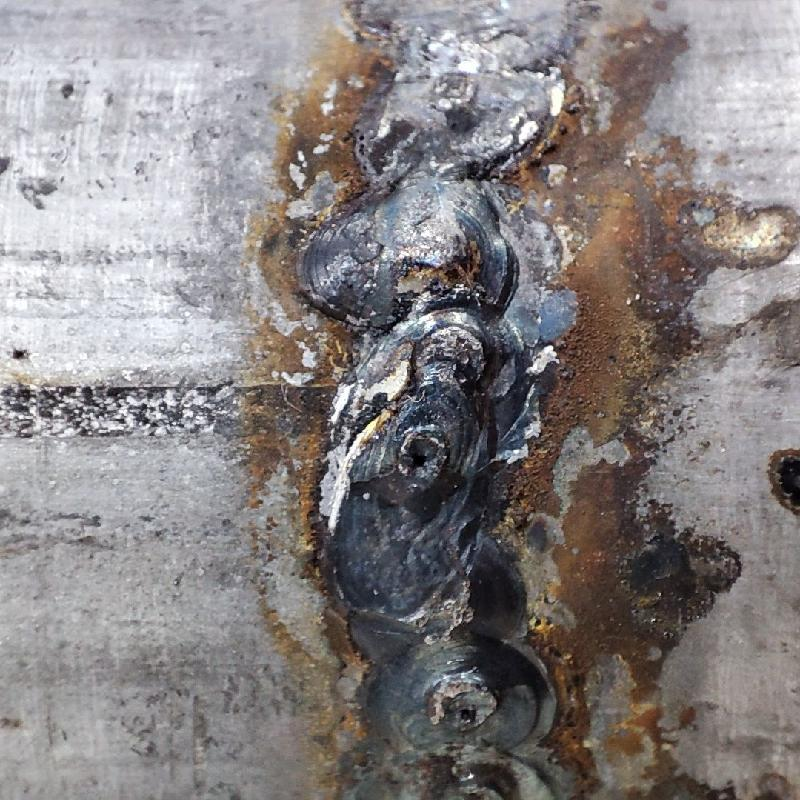Not_fully_soldered: (305, 5, 582, 170)
Surface_pores: (400, 435, 436, 487)
wrong_size: (302, 184, 570, 799)
